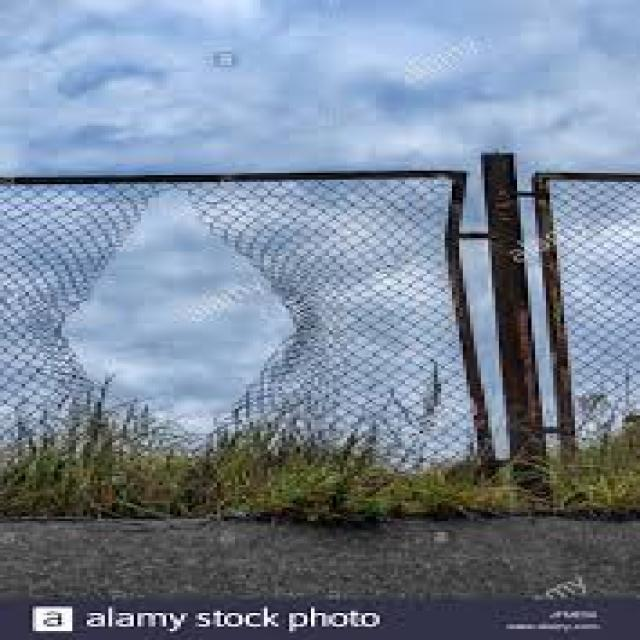fence line: (46, 186, 314, 489)
